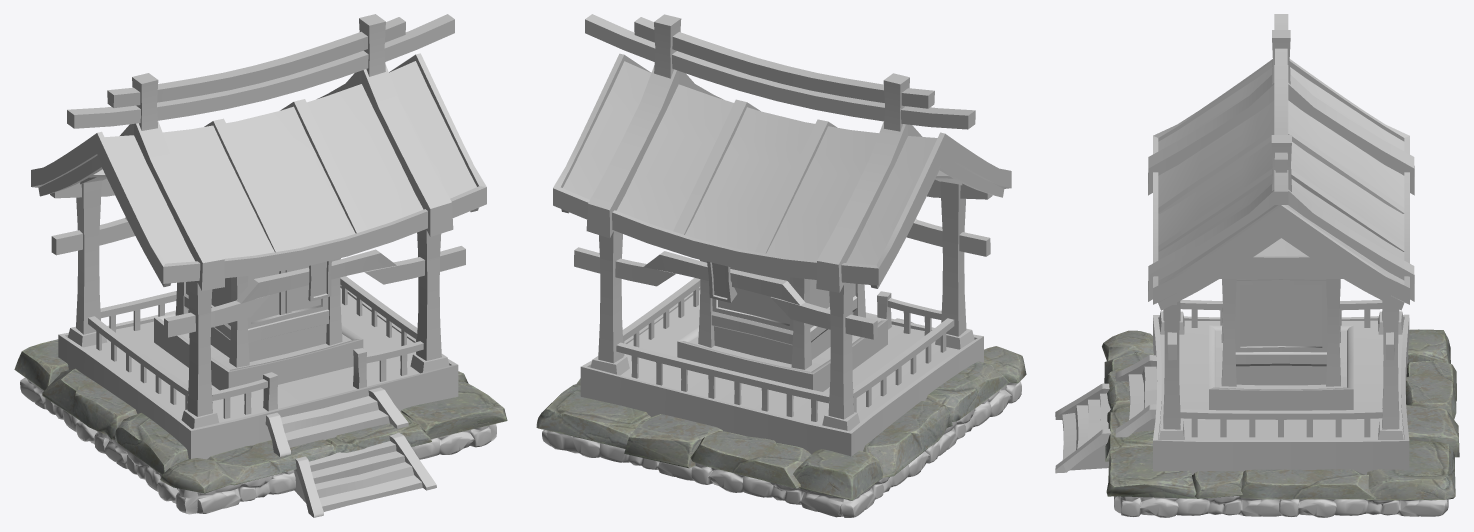
Rendered from SM_EastLands_Shrine_01.fbx.
The picture shows the model from 3 angles, left to right: view 1: azimuth 30°, elevation 25°; view 2: azimuth 150°, elevation 25°; view 3: azimuth 270°, elevation 25°; orthographic projection. The views are drawn at different scales.
Visible parts, largest first — view 1: SM_EastLands_Shrine_01_LOD0; view 2: SM_EastLands_Shrine_01_LOD0; view 3: SM_EastLands_Shrine_01_LOD0.
Part boxes in pixels (<box>): SM_EastLands_Shrine_01_LOD0: <box>14,14,507,517</box>; SM_EastLands_Shrine_01_LOD0: <box>536,14,1026,517</box>; SM_EastLands_Shrine_01_LOD0: <box>1055,14,1459,517</box>.
Size of the model in its own units: 398 by 370 by 377.
